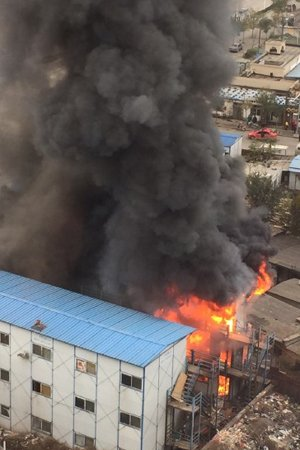fire: (180, 244, 272, 340)
